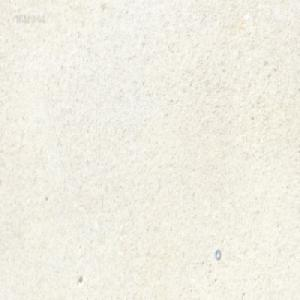Washer: (214, 248, 220, 260)
